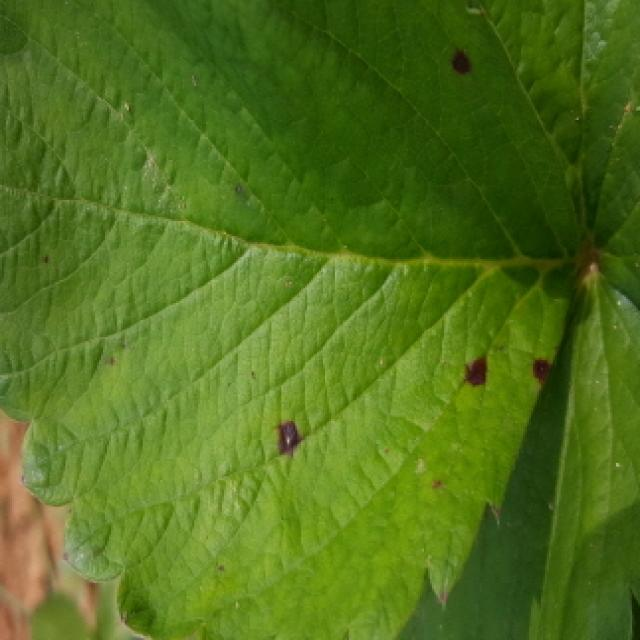Leaf Spot: (468, 0, 640, 311)
